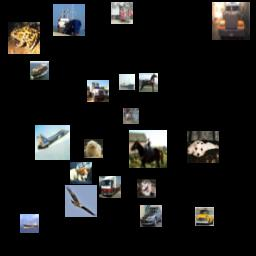airplane: (35, 125, 70, 160)
automobile: (140, 205, 162, 227), (195, 207, 214, 226)
bird: (65, 185, 97, 217)
cat: (137, 179, 156, 198)
dog: (187, 131, 219, 163), (70, 162, 92, 184), (84, 139, 103, 158)
frog: (8, 22, 40, 54)
ship: (53, 4, 85, 36), (30, 61, 49, 80), (20, 214, 39, 233), (119, 74, 135, 90)
truck: (212, 2, 250, 40), (87, 80, 109, 102), (111, 2, 133, 24), (99, 176, 121, 198), (123, 108, 139, 124)
